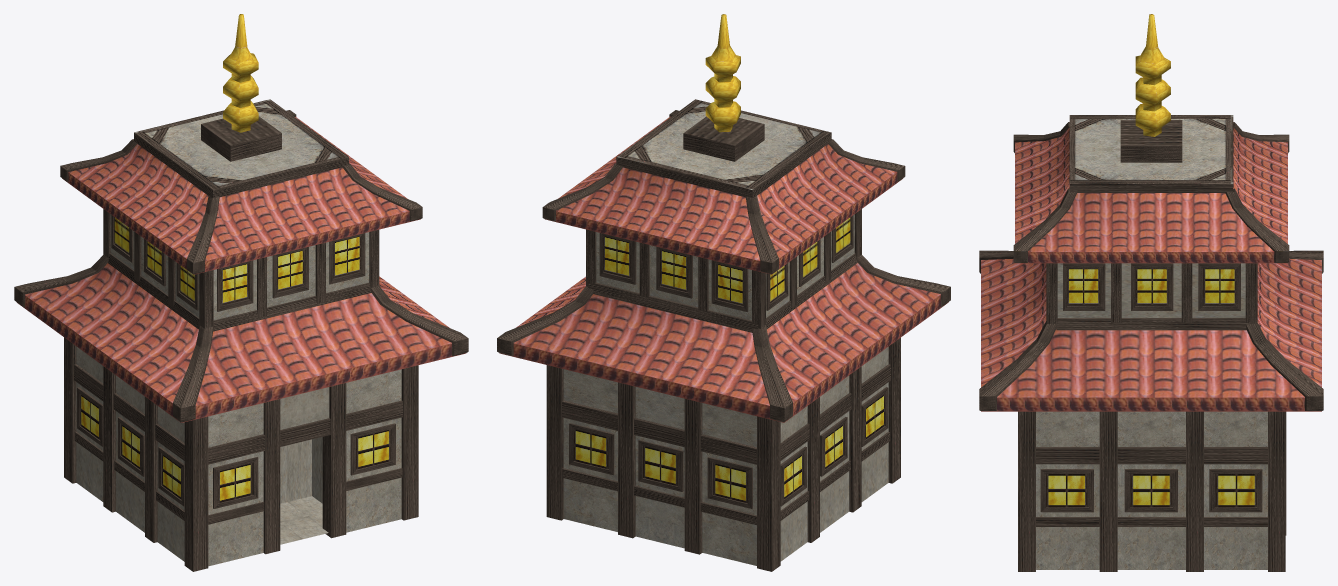
The model's file is casa-oriental-01.fbx.
3 renders of one model, left to right at view 1: azimuth 30°, elevation 25°; view 2: azimuth 150°, elevation 25°; view 3: azimuth 270°, elevation 25°, orthographic. The views are drawn at different scales.
Parts seen in each view (by area): view 1: Cube.000, Cube.002, Cube.001; view 2: Cube.000, Cube.002; view 3: Cube.000, Cube.002.
Boxes of the visible parts, bbox=[...] form: Cube.000: bbox=[14, 14, 468, 571]; Cube.002: bbox=[80, 217, 390, 502]; Cube.001: bbox=[280, 437, 328, 544]; Cube.000: bbox=[497, 14, 950, 571]; Cube.002: bbox=[573, 217, 884, 503]; Cube.000: bbox=[979, 14, 1323, 571]; Cube.002: bbox=[1046, 268, 1256, 507].
Size of the model in its own units: 5.37 by 8.61 by 5.37.
